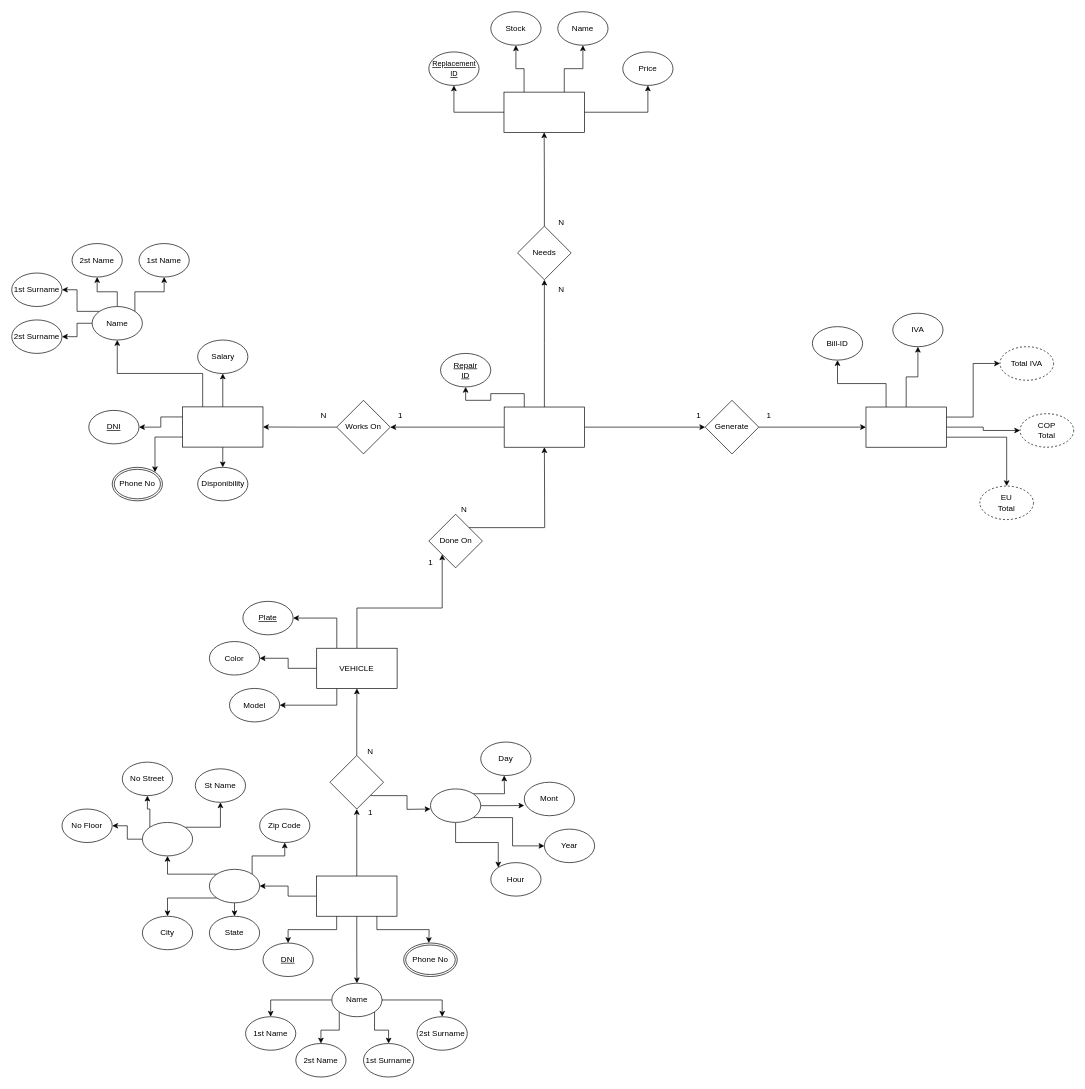
The diagram is 1085 pixels wide and 1089 high, and some of its shapes have lost their labels. Each missing label, with the centre of its shape:
"Address" belongs at pixel 234 886.
"BILL" belongs at pixel 905 426.
"CLIENT" belongs at pixel 356 895.
"In Date" belongs at pixel 455 805.
"MECHANIC" belongs at pixel 222 426.
"Register Rapair" belongs at pixel 356 782.
"REPAIR" belongs at pixel 544 426.
"REPLACEMENT" belongs at pixel 543 111.
"Street" belongs at pixel 167 839.
